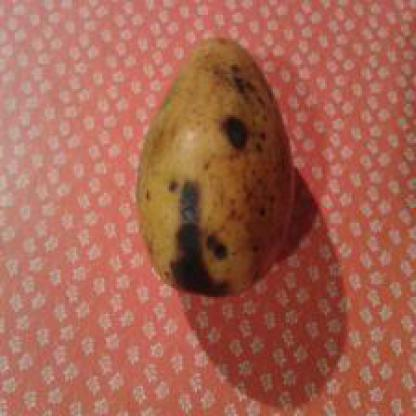mango_rotten: (134, 32, 294, 299)
